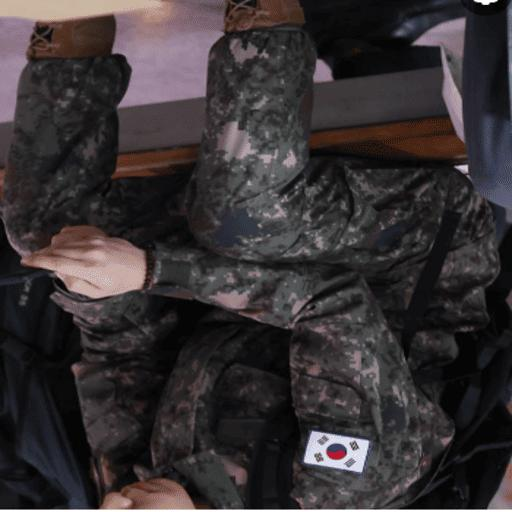korea army: (4, 4, 500, 508)
